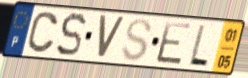C: (25, 10, 60, 55)
E: (154, 19, 193, 67)
L: (187, 23, 211, 69)
S: (119, 18, 154, 64), (55, 11, 88, 59)
V: (97, 14, 127, 62)
